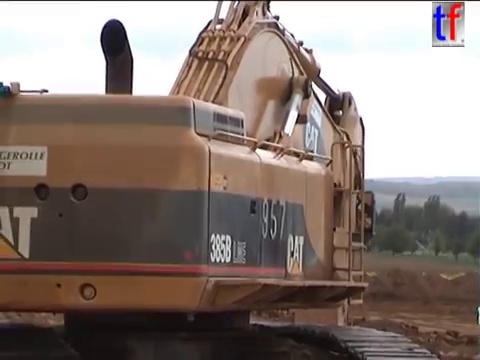excavator: (1, 1, 444, 360)
worker: (475, 299, 480, 339)
